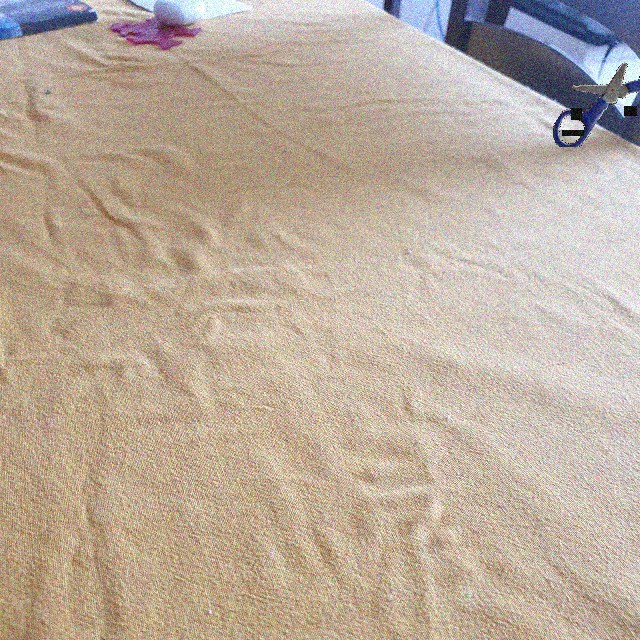scissors: (553, 62, 640, 147)
